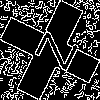Z: (25, 25, 79, 73)
